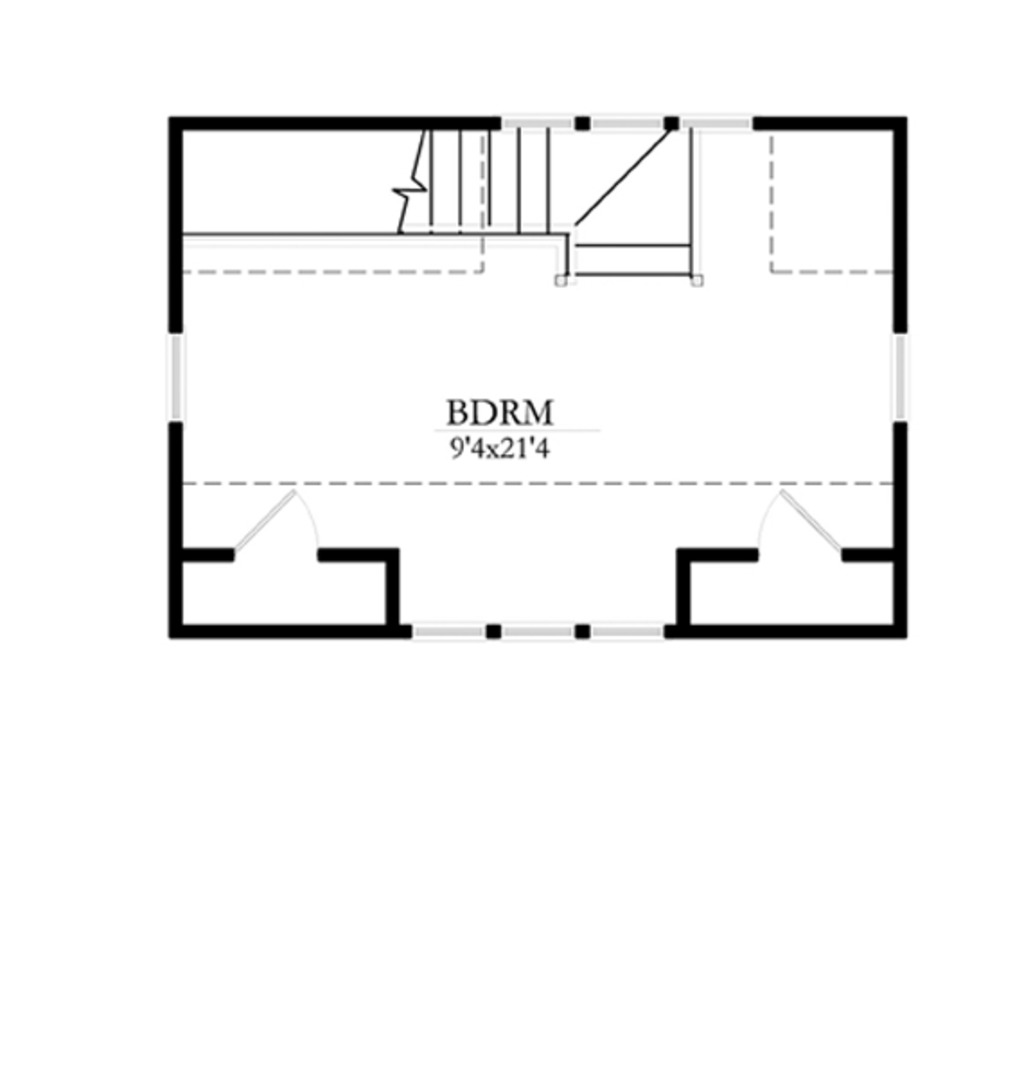door: (754, 488, 843, 568), (235, 487, 320, 562)
stairs: (184, 127, 700, 289)
windows: (408, 619, 670, 646), (490, 109, 754, 132), (887, 330, 915, 425), (164, 325, 188, 423)
